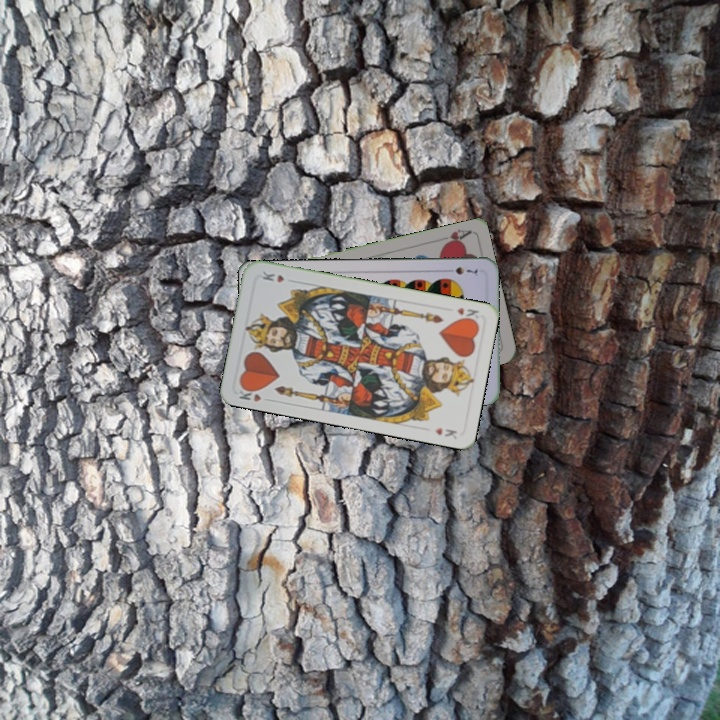HA: (433, 225, 473, 249)
HK: (234, 382, 274, 404), (453, 303, 481, 324)
S7: (442, 263, 480, 277)
